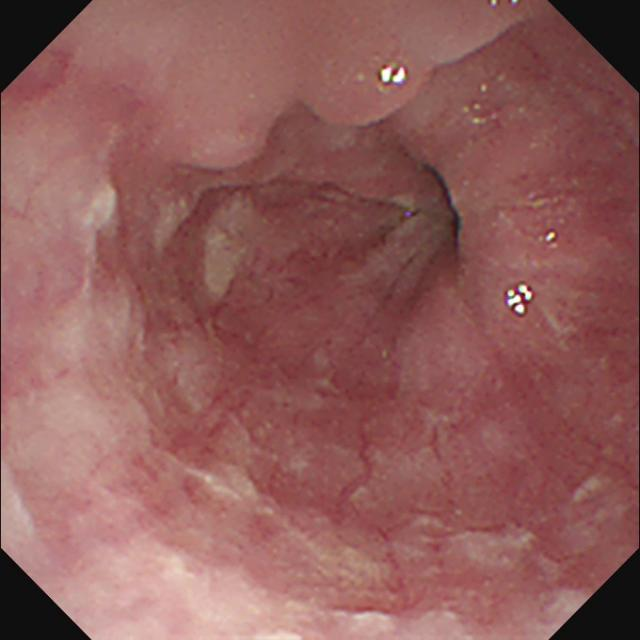A: (169, 106, 285, 175), (241, 446, 339, 520), (298, 91, 416, 134)
E: (432, 166, 466, 252)
J: (202, 190, 275, 303), (151, 188, 203, 257)
U: (507, 284, 536, 316), (377, 64, 411, 90)
